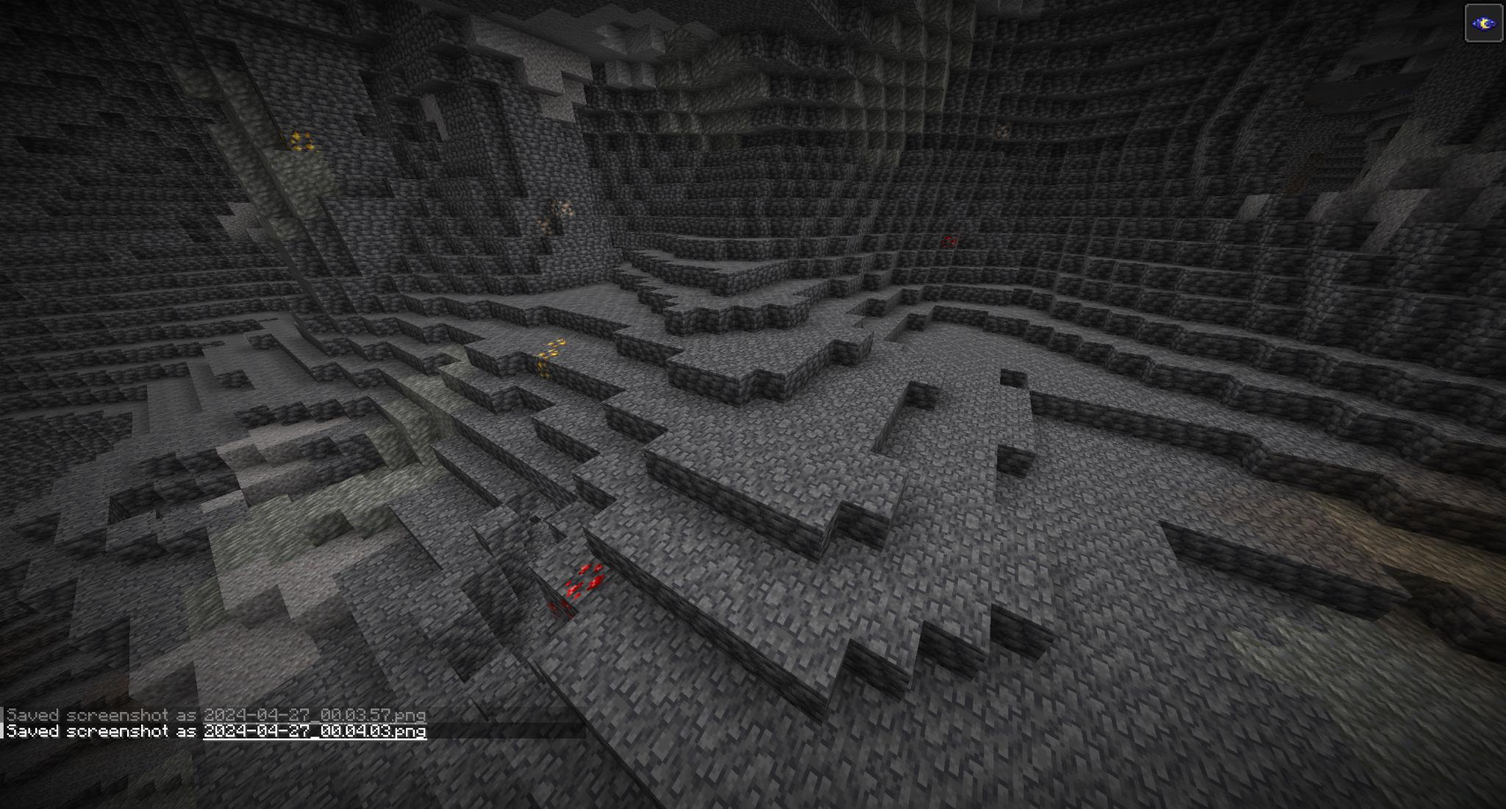gold ore: (536, 338, 567, 376), (286, 130, 317, 155)
iron ore: (992, 117, 1021, 145), (550, 199, 575, 223), (533, 217, 555, 237)
redstone ore: (550, 561, 606, 618), (937, 230, 963, 254)
